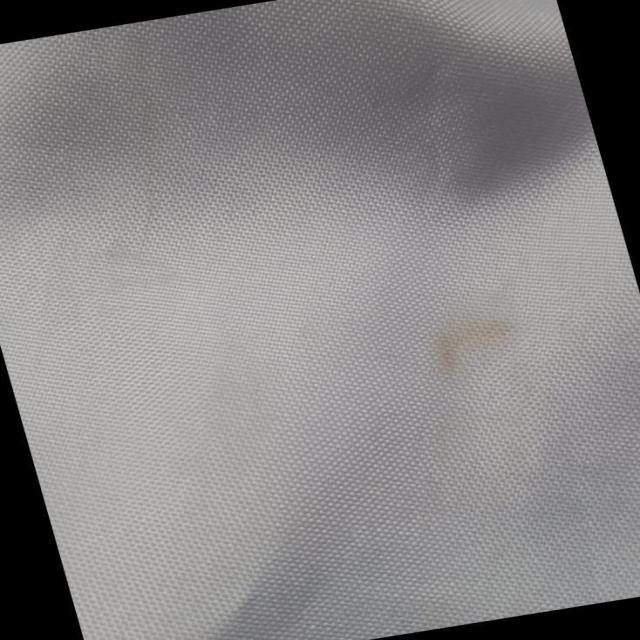stain: (411, 299, 546, 408)
